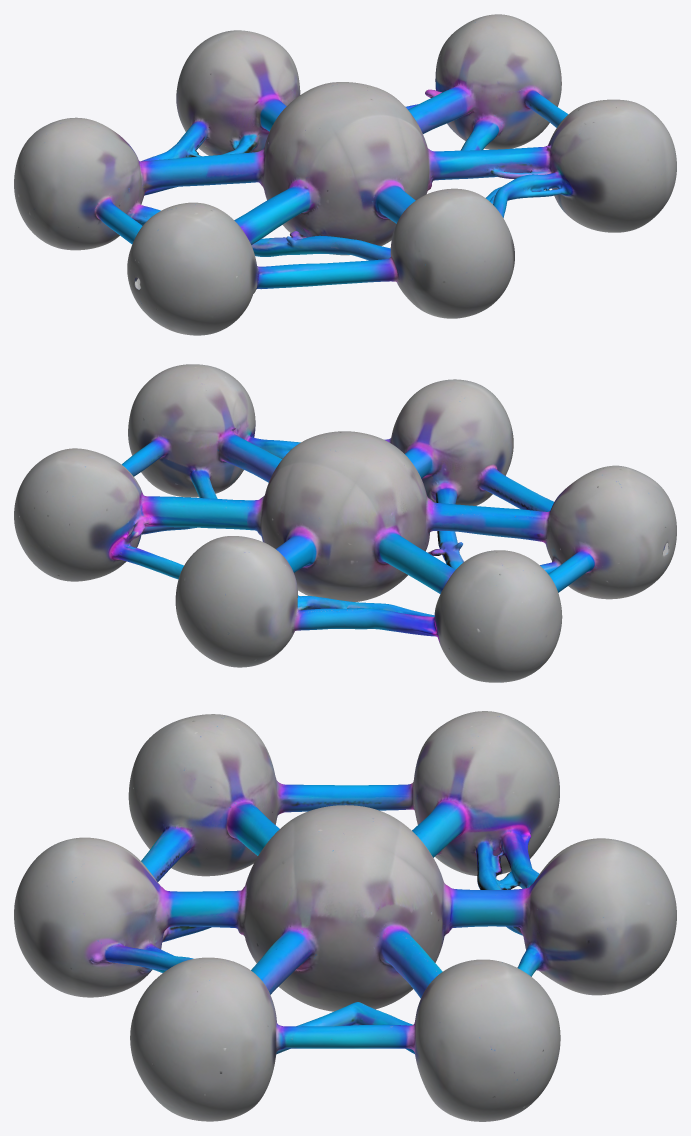
Rendered from Neural_Network_Nodes.glb.
3 renders of one model, top to bottom at view 1: azimuth 30°, elevation 25°; view 2: azimuth 150°, elevation 25°; view 3: azimuth 270°, elevation 25°, orthographic. The views are drawn at different scales.
Bounding box in the file's own units: 2 × 0.5446 × 1.81.
1 material, 1 textured.
